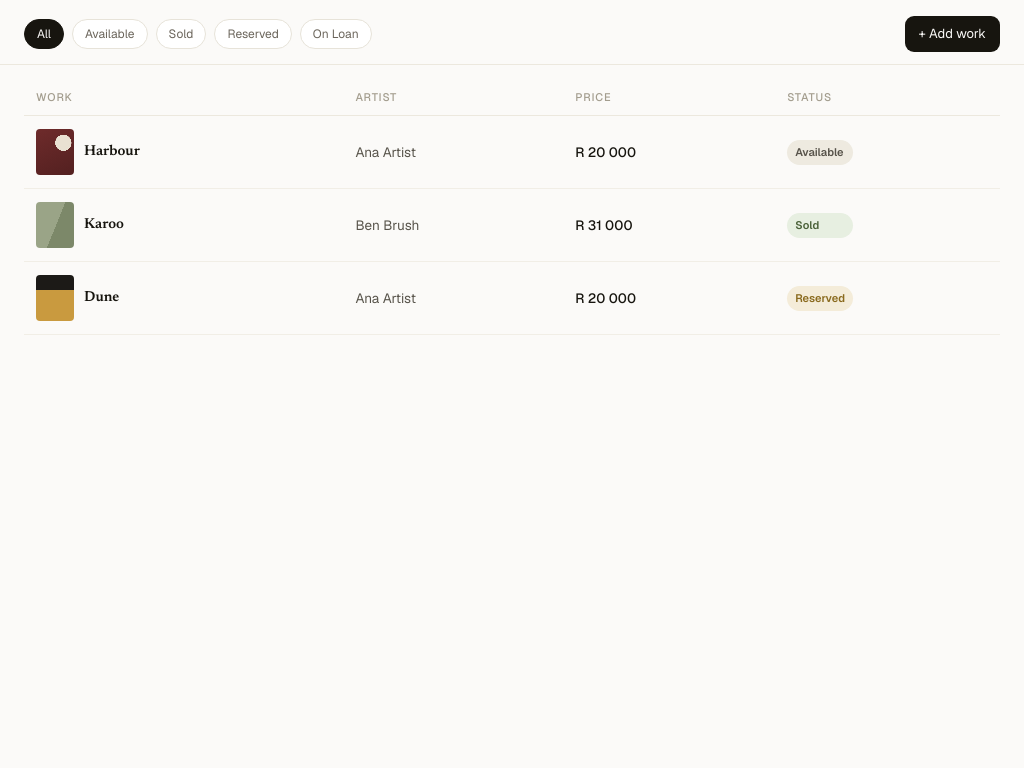
it: CataloguePanel status changes › reverts and reports when saving the status fails
The width and height of the screenshot is (1024, 768).
Select "reserved" in the dropdown in the row of "Harbour" at (820, 153), box [787,140,853,165]
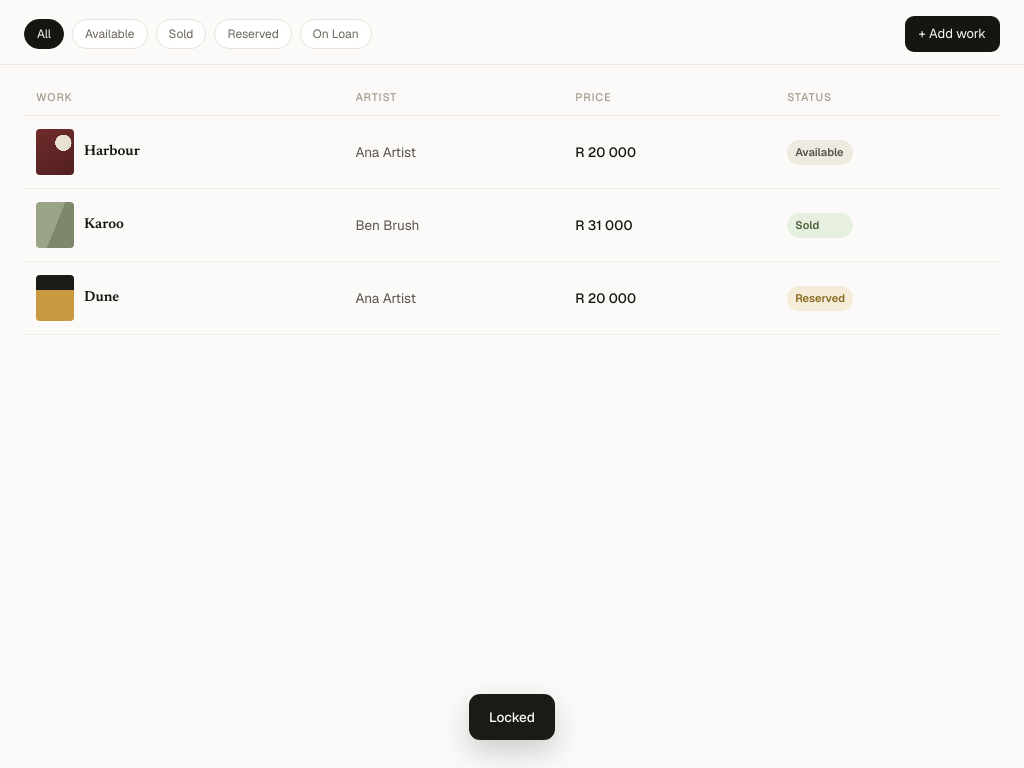
Expected: the text "Locked" is shown, [469,694,555,740]
